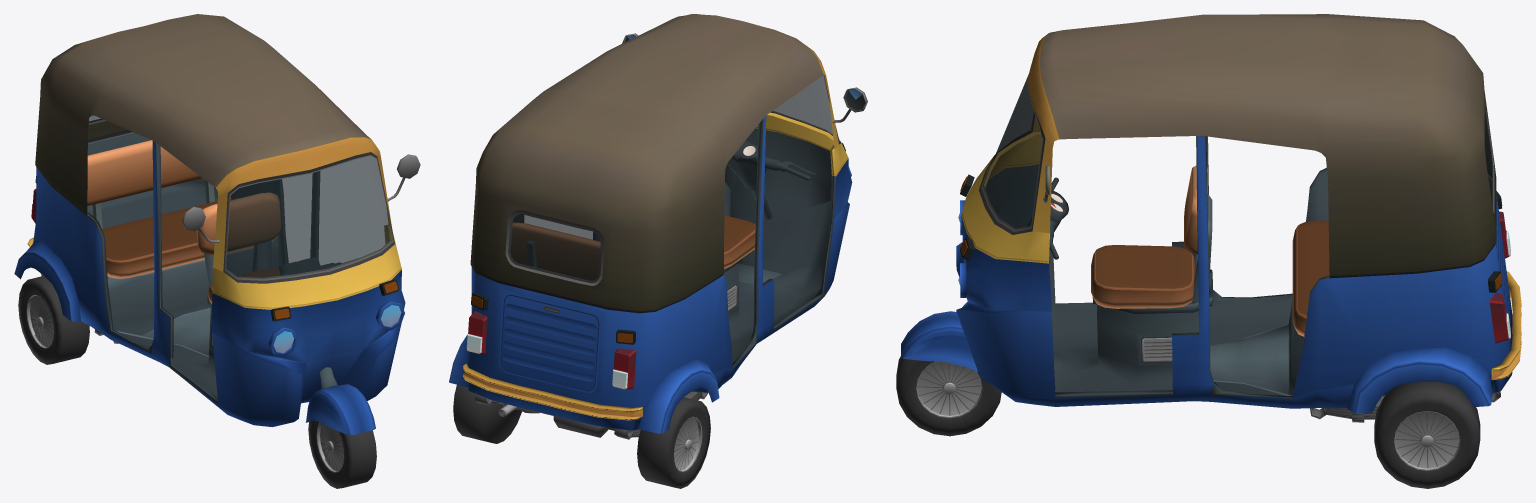
File: auto.glb
The picture shows the model from 3 angles, left to right: view 1: azimuth 30°, elevation 25°; view 2: azimuth 150°, elevation 25°; view 3: azimuth 270°, elevation 25°; orthographic projection. The views are drawn at different scales.
Visible parts, largest first — view 1: auto_part_24, auto_part_25, auto_part_15, auto_part_73, auto_part_68, auto_part_70, auto_part_69, auto_part_13; view 2: auto_part_24, auto_part_25, auto_part_15, auto_part_73, auto_part_76, auto_part_13; view 3: auto_part_24, auto_part_15, auto_part_76, auto_part_68, auto_part_25, auto_part_70, auto_part_69, auto_part_13.
Part boxes in pixels (box(x1,y1,x2,y2)): auto_part_24: box(14, 14, 405, 426); auto_part_25: box(89, 115, 392, 277); auto_part_15: box(87, 140, 420, 304); auto_part_73: box(18, 276, 89, 364); auto_part_68: box(308, 420, 376, 488); auto_part_70: box(306, 384, 374, 432); auto_part_69: box(306, 385, 375, 435); auto_part_13: box(278, 257, 349, 389); auto_part_24: box(449, 14, 852, 439); auto_part_25: box(510, 37, 865, 280); auto_part_15: box(466, 33, 867, 389); auto_part_73: box(637, 397, 710, 488); auto_part_76: box(453, 384, 521, 443); auto_part_13: box(727, 140, 815, 219); auto_part_24: box(956, 14, 1521, 422); auto_part_15: box(1043, 165, 1510, 339); auto_part_76: box(1374, 382, 1480, 488); auto_part_68: box(896, 356, 1001, 436); auto_part_25: box(984, 75, 1492, 228); auto_part_70: box(903, 311, 977, 371); auto_part_69: box(901, 316, 976, 369); auto_part_13: box(1027, 177, 1068, 259).
Bounding box in the file's own units: 1.4 × 1.8 × 2.66.
Materials: 7 (5 with a texture image).
